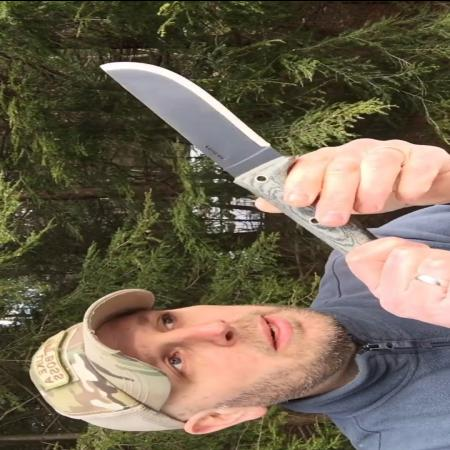long weapon: (91, 57, 323, 213)
